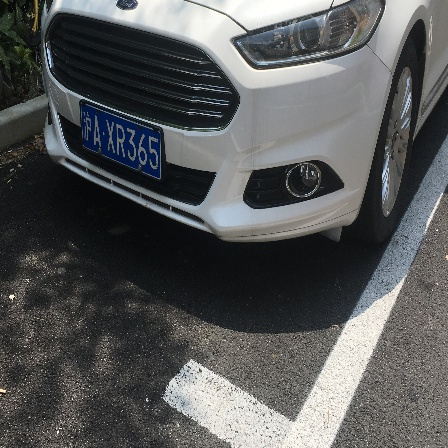plate: (74, 103, 170, 180)
